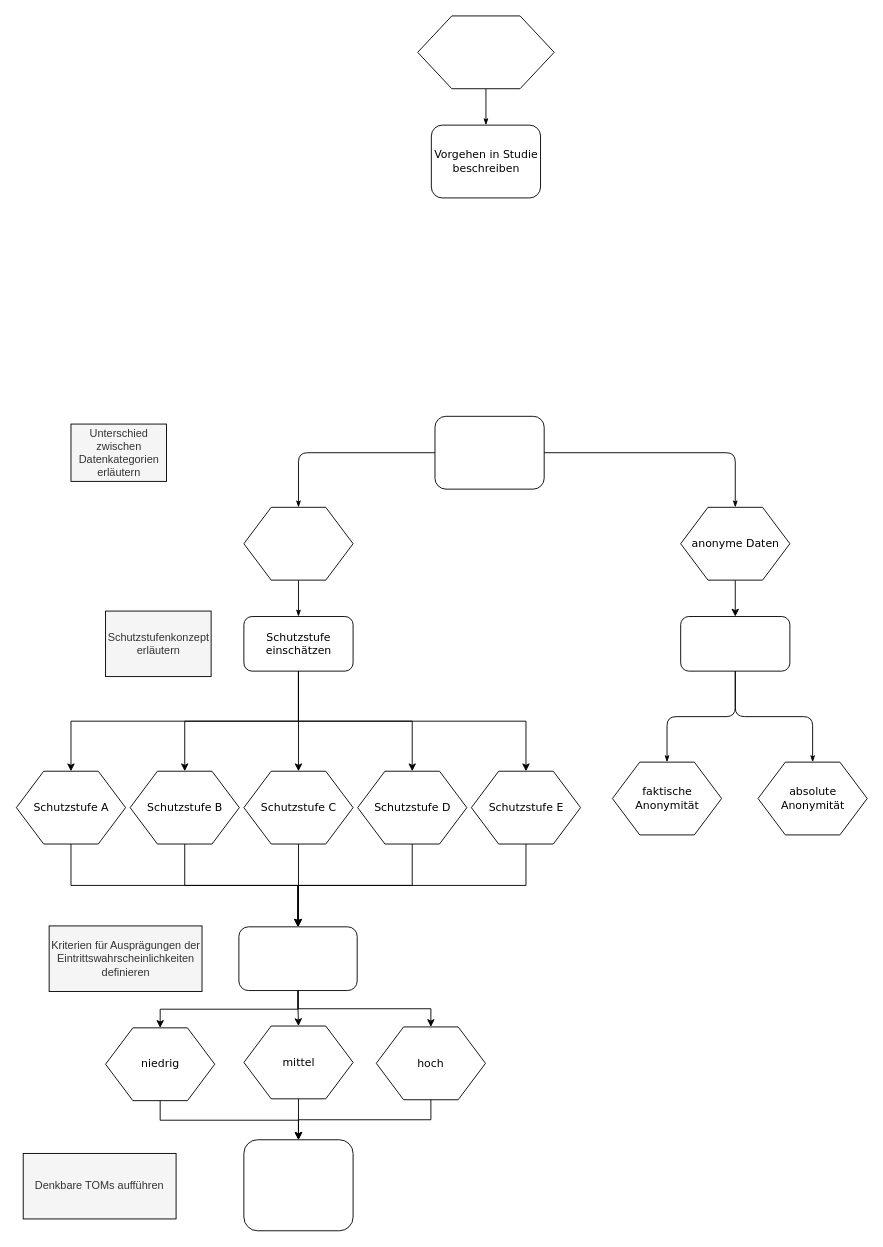
The diagram is 883 pixels wide and 1247 high, and some of its shapes have lost their labels. Here are the shapes that lost their labels. From the top down, the centre of each, then its label:
At pixel 485 52: "Self Assessment für neue Studie".
At pixel 489 452: "DSGVO-Relevanz prüfen".
At pixel 298 543: "personen-bezogene Daten".
At pixel 735 643: "Grad der Anonymisierung prüfen".
At pixel 297 958: "Eintritts-wahrscheinlichkeit für Negativszenario abschätzen".
At pixel 298 1185: "technische und organisatorische Maßnahmen (TOMs) beschreiben".
